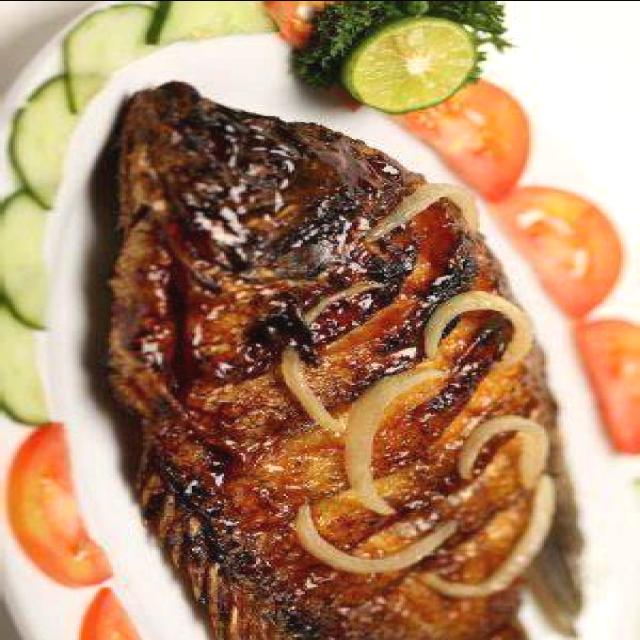ikan bakar: (94, 78, 582, 640)
